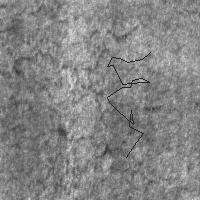crazing: (11, 50, 162, 175), (3, 3, 148, 56), (107, 52, 150, 157)
